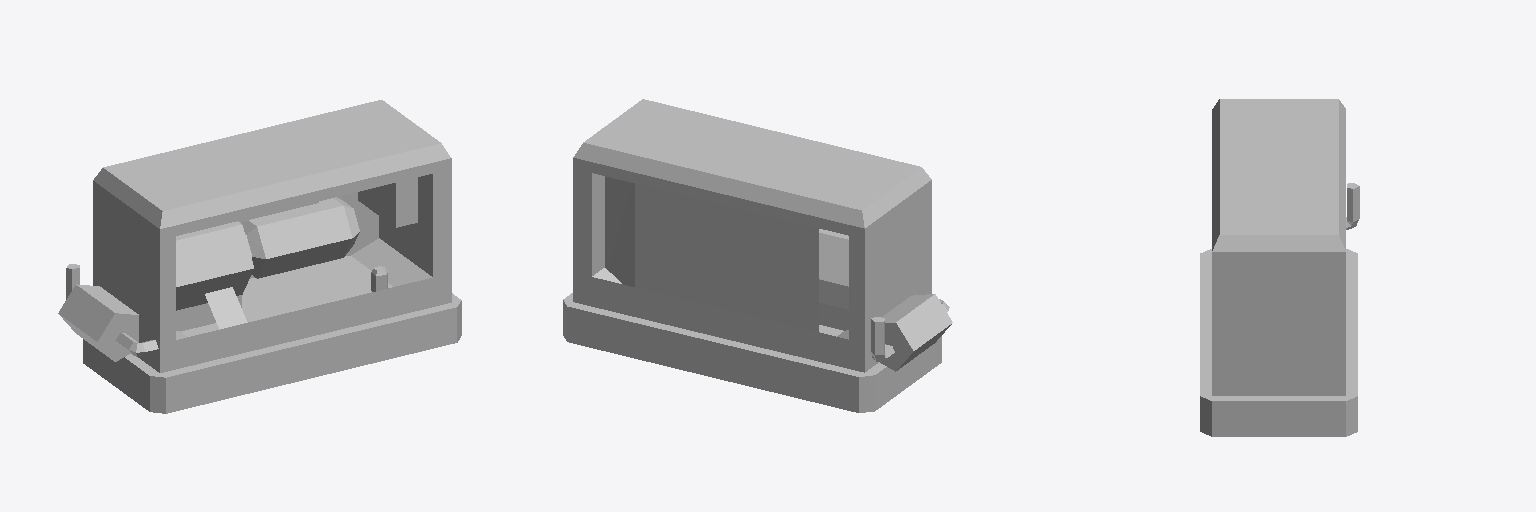
Rendered from sw_power.obj.
3 views of the same model, side by side, from view 1: azimuth 30°, elevation 25°; view 2: azimuth 150°, elevation 25°; view 3: azimuth 270°, elevation 25° (orthographic).
Visible parts, largest first — view 1: sw_power; view 2: sw_power; view 3: sw_power.
Part boxes in pixels (x1,y1,x2,y2): sw_power: (58,100,461,413); sw_power: (563,99,952,412); sw_power: (1200,99,1359,436).
Size of the model in its own units: 2.45 by 1.32 by 0.9808.